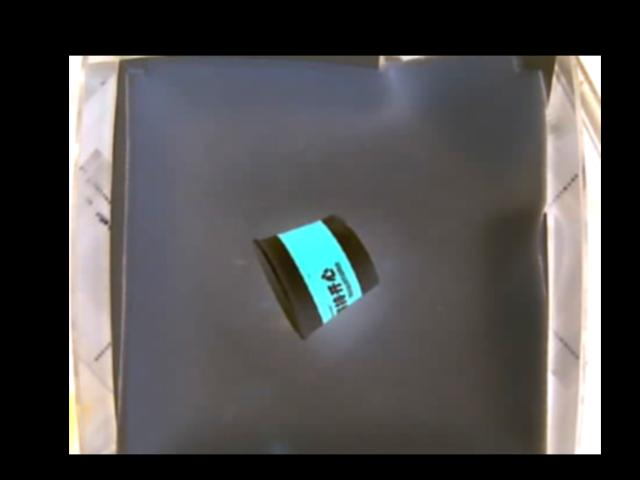Cup: (252, 211, 378, 343)
